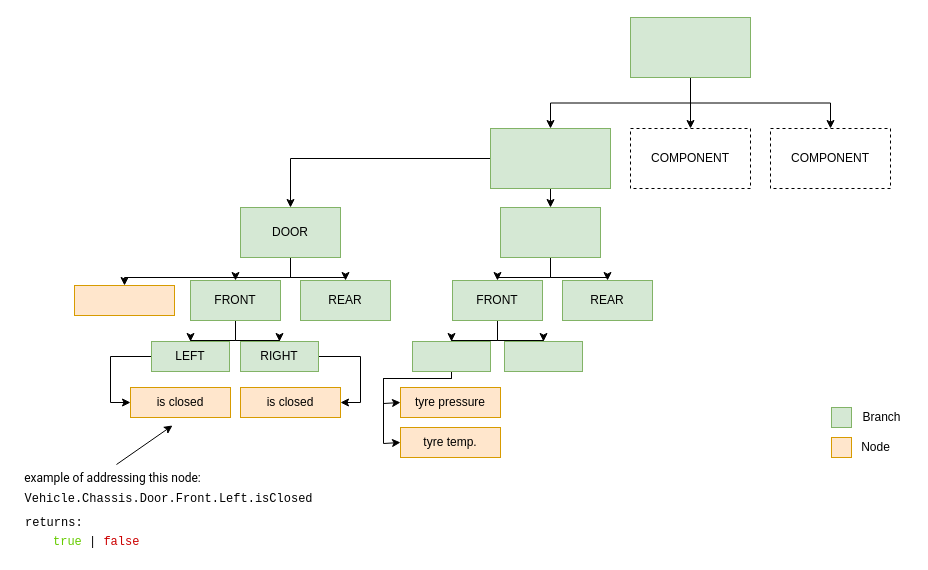
This 928x570 diagram has some shape labels left out. The centre of each missing label's shape, as x and y in pixels:
"AXLE" goes at (x=550, y=232).
"CHASSIS" goes at (x=550, y=158).
"door num" goes at (x=124, y=300).
"L WHEEL" goes at (x=451, y=356).
"R WHEEL" goes at (x=543, y=356).
"VEHICLE" goes at (x=690, y=47).
